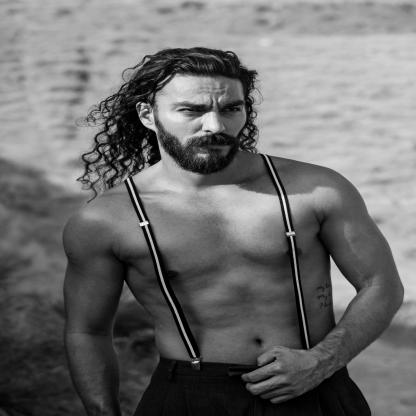Eye: (175, 107, 207, 116), (223, 106, 243, 114)
Mouth: (194, 142, 229, 150)
Nose: (202, 109, 225, 134)
